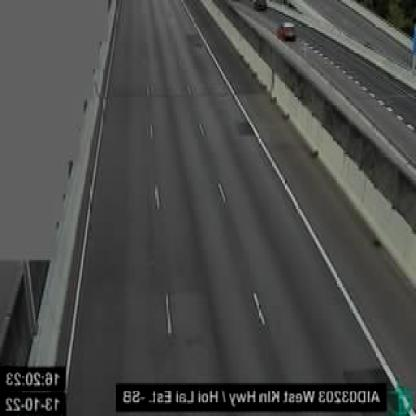Car: (277, 21, 296, 41)
